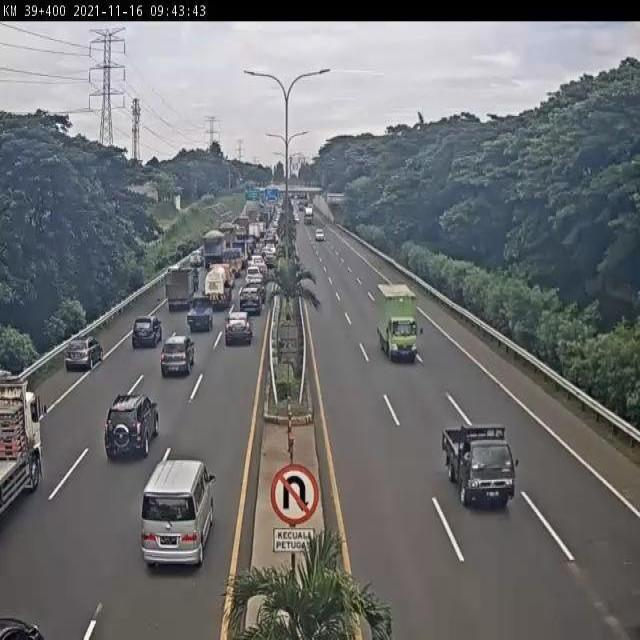Car: (104, 392, 160, 460), (160, 333, 197, 377), (65, 336, 103, 372), (224, 311, 253, 345), (132, 317, 162, 349), (238, 285, 263, 315), (314, 229, 324, 241), (294, 214, 300, 224)
Truck: (0, 373, 46, 530), (442, 424, 517, 510), (376, 282, 418, 363), (164, 267, 194, 312), (204, 265, 232, 312), (186, 298, 215, 333), (304, 206, 314, 225)
Van: (139, 459, 215, 567)
